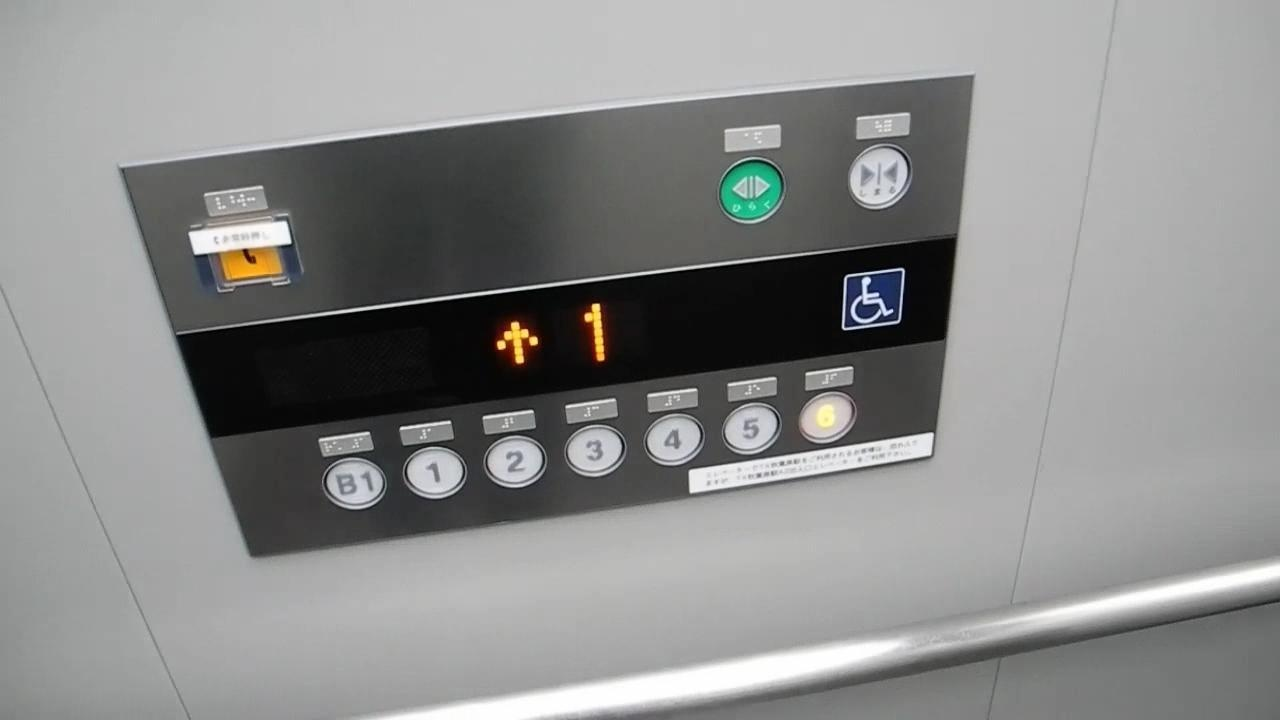1: (402, 446, 469, 499)
2: (482, 434, 548, 489)
3: (562, 423, 628, 477)
4: (642, 413, 707, 466)
5: (720, 400, 784, 455)
6: (797, 392, 858, 444)
B1: (322, 457, 388, 509)
CH: (841, 267, 904, 329)
call: (185, 212, 304, 292)
close: (845, 141, 914, 210)
open: (716, 157, 788, 224)
